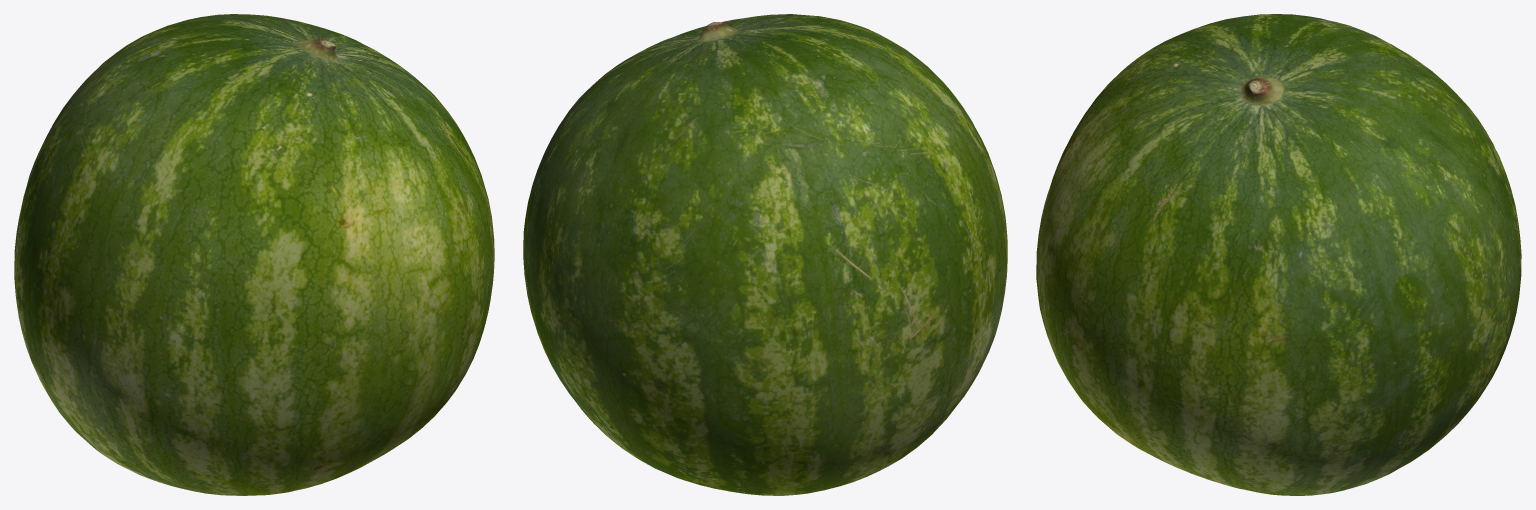
Rendered from SM_Watermelon.fbx.
3 renders of one model, left to right at view 1: azimuth 30°, elevation 25°; view 2: azimuth 150°, elevation 25°; view 3: azimuth 270°, elevation 25°, orthographic.
Parts seen in each view (by area): view 1: Watermelon_ujdjfddjw_LOD0; view 2: Watermelon_ujdjfddjw_LOD0; view 3: Watermelon_ujdjfddjw_LOD0.
Part boxes in pixels (x1,y1,x2,y2): Watermelon_ujdjfddjw_LOD0: (14, 14, 494, 495); Watermelon_ujdjfddjw_LOD0: (523, 14, 1007, 495); Watermelon_ujdjfddjw_LOD0: (1036, 14, 1521, 495).
Size of the model in its own units: 13.51 by 13.05 by 13.56.
Materials: 1 (1 with a texture image).
